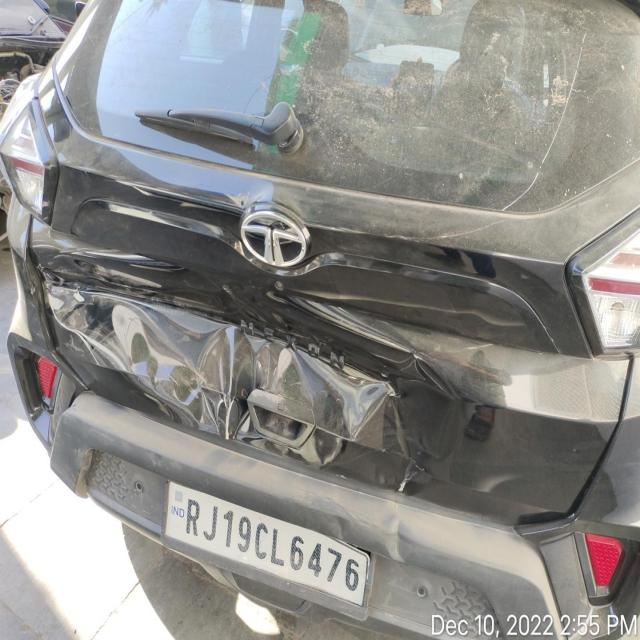damage: (29, 216, 481, 499), (323, 516, 418, 566)
